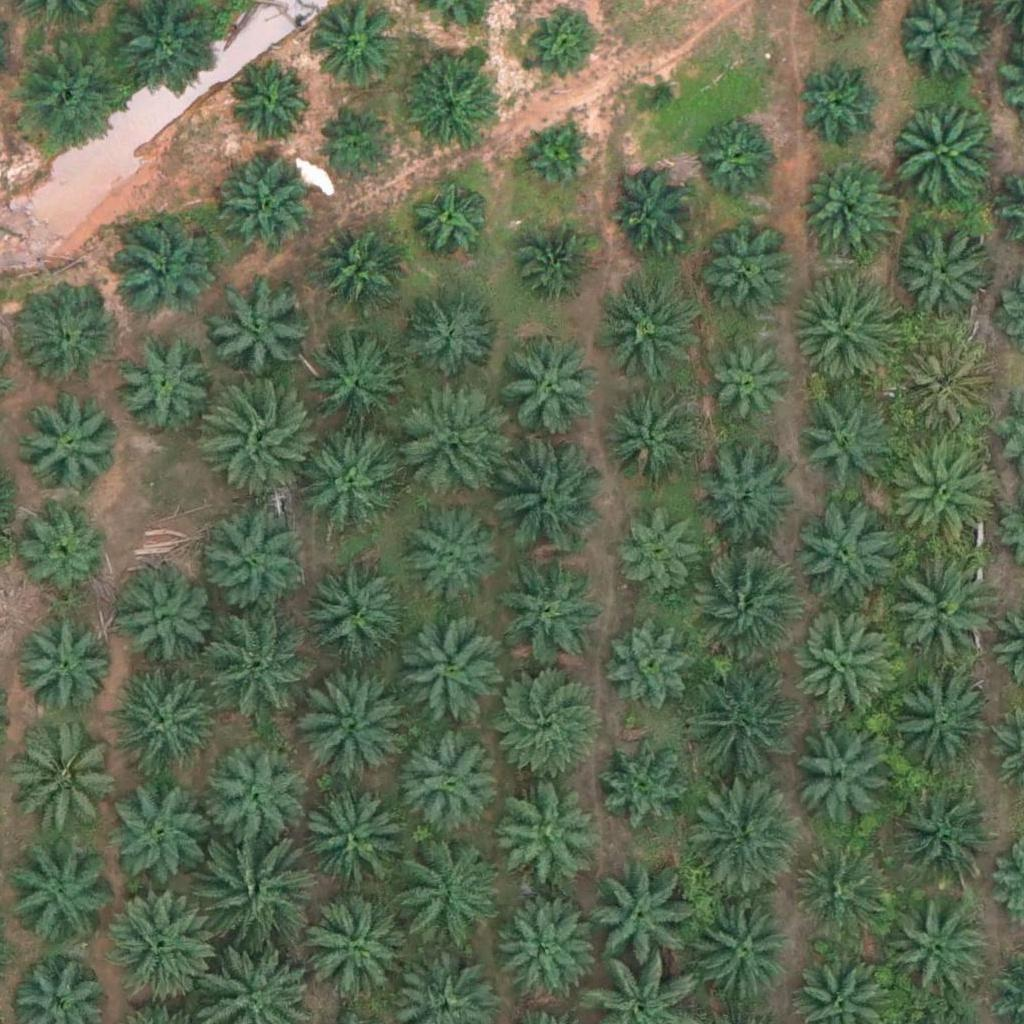Kelapa_Sawit: (393, 382, 506, 496), (12, 46, 125, 159), (195, 839, 308, 952), (2, 840, 115, 953), (485, 660, 598, 773), (392, 617, 505, 730), (103, 661, 216, 774), (685, 899, 797, 1013), (686, 543, 798, 657), (683, 661, 795, 775), (490, 438, 602, 552), (793, 273, 905, 386), (684, 784, 796, 897), (394, 838, 506, 951), (300, 891, 412, 1004), (104, 887, 216, 1000), (885, 439, 997, 552), (298, 666, 410, 779), (202, 611, 314, 724), (196, 501, 308, 614), (203, 381, 315, 494), (12, 724, 124, 837), (893, 107, 993, 208), (892, 219, 992, 320), (397, 60, 497, 161), (799, 159, 899, 260), (700, 227, 800, 328), (498, 340, 598, 441), (210, 277, 310, 378), (108, 216, 208, 317), (16, 281, 116, 382), (884, 898, 984, 999), (794, 843, 894, 944), (502, 899, 602, 1000), (889, 553, 989, 654), (891, 676, 991, 777), (797, 394, 897, 495), (795, 513, 895, 614), (695, 451, 795, 552), (592, 731, 692, 832), (491, 781, 591, 882), (400, 730, 500, 831), (399, 501, 499, 602), (298, 431, 398, 532), (302, 564, 402, 665), (297, 792, 397, 893), (206, 747, 306, 848), (113, 568, 213, 669), (106, 782, 206, 883), (18, 616, 118, 717), (21, 391, 121, 492), (896, 329, 996, 429), (598, 282, 698, 382), (213, 163, 313, 263), (112, 332, 212, 432), (585, 870, 685, 970), (894, 791, 994, 891), (797, 621, 897, 721), (791, 727, 891, 827), (605, 612, 705, 712), (601, 386, 701, 486), (496, 563, 596, 663), (401, 283, 501, 383), (308, 338, 408, 438), (796, 60, 884, 148), (703, 347, 791, 435), (609, 165, 697, 253), (617, 507, 705, 595), (313, 228, 400, 316), (509, 229, 596, 317), (693, 106, 780, 194), (226, 60, 313, 148), (21, 503, 108, 591), (411, 182, 486, 258), (517, 122, 592, 198), (523, 5, 598, 81), (321, 113, 396, 188), (634, 66, 684, 116)
